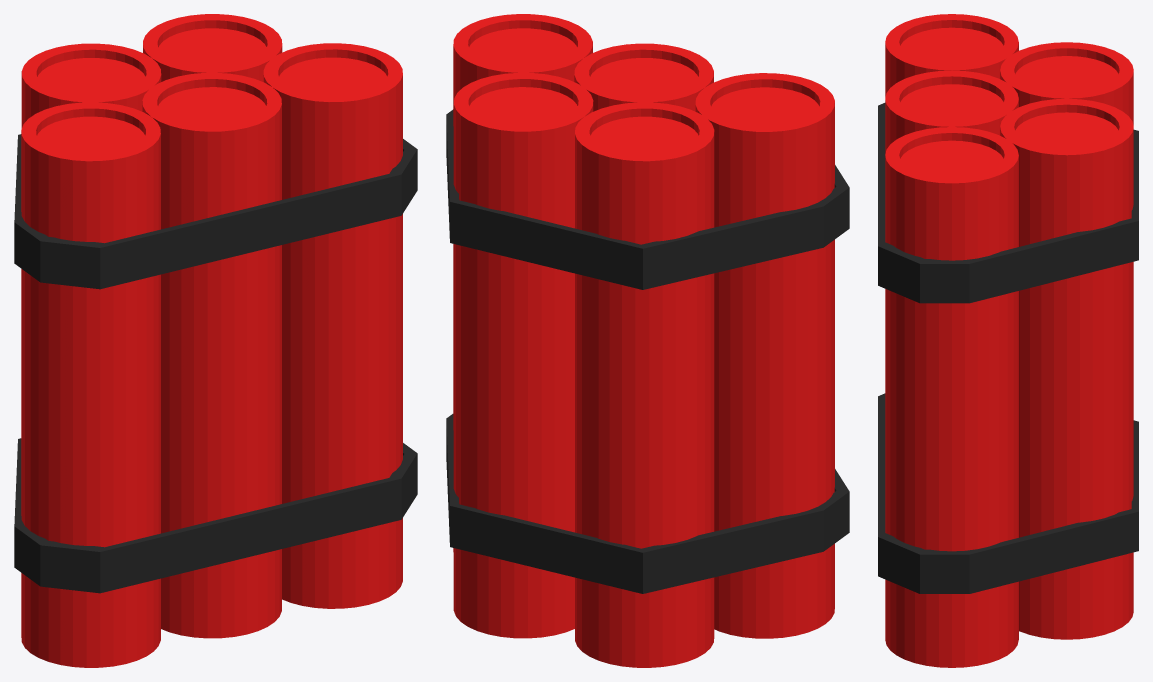
Rendered from dynamite.obj.
3 renders of one model, left to right at view 1: azimuth 30°, elevation 25°; view 2: azimuth 150°, elevation 25°; view 3: azimuth 270°, elevation 25°, orthographic. The views are drawn at different scales.
Parts seen in each view (by area): view 1: 立方体.002; view 2: 立方体.002; view 3: 立方体.002.
Boxes of the visible parts, left/top/right/bottom form: 立方体.002: left=14, top=14, right=417, bottom=667; 立方体.002: left=446, top=14, right=849, bottom=667; 立方体.002: left=878, top=14, right=1138, bottom=667.
Bounding box in the file's own units: 1.56 × 2 × 0.9763.
